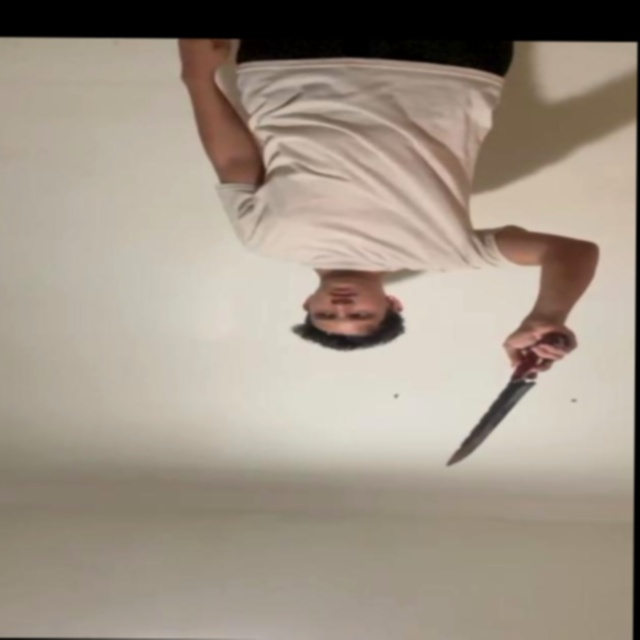Sharp-Object: (449, 383, 533, 467)
